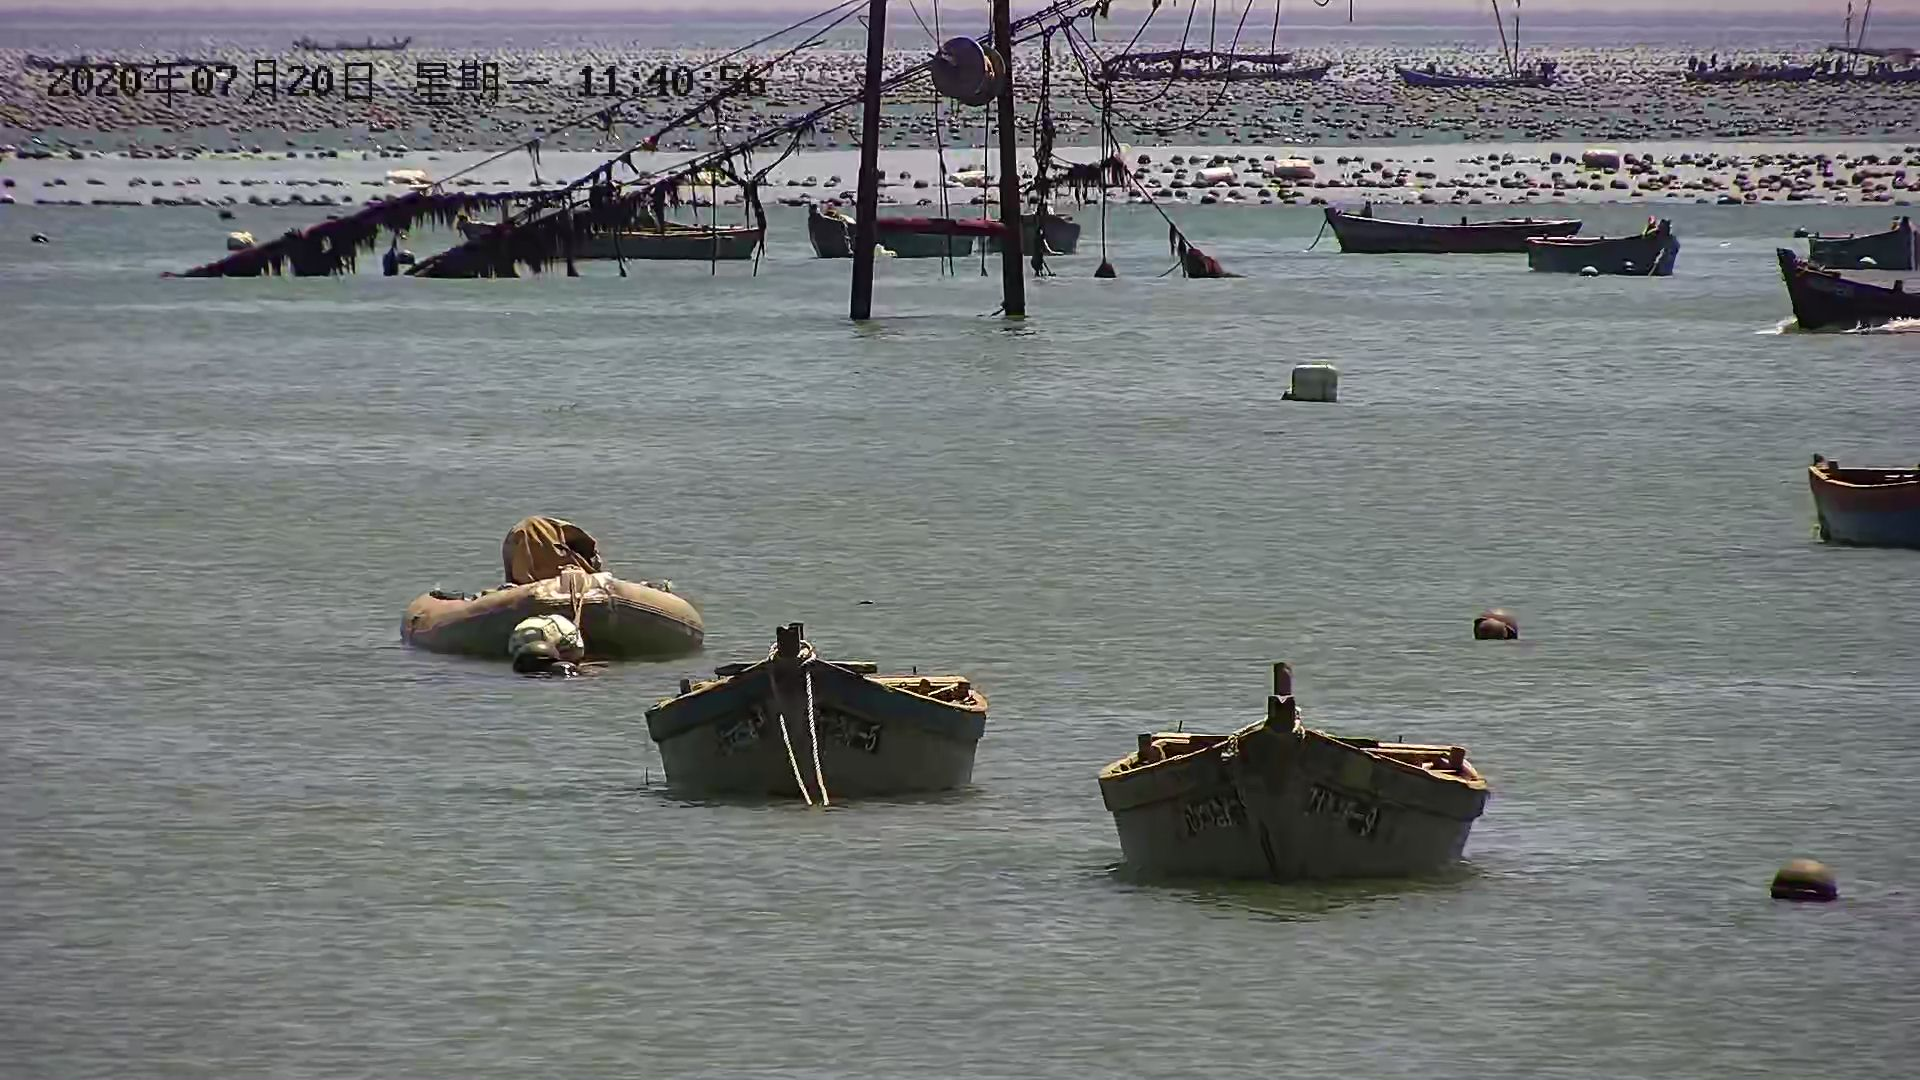ball: (1771, 855, 1844, 913), (1470, 608, 1519, 641)
boat: (1083, 667, 1499, 880), (640, 625, 992, 802), (388, 516, 728, 671), (463, 204, 782, 272), (789, 191, 1085, 261), (1754, 251, 1920, 352), (1311, 204, 1584, 257), (1801, 450, 1920, 547), (1518, 225, 1693, 280)
rubbish: (1280, 363, 1346, 405)
